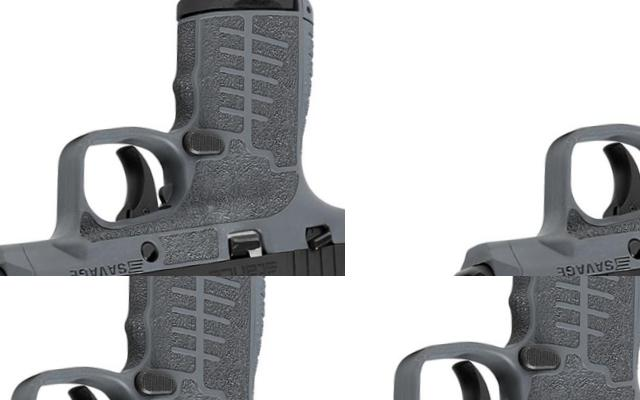handgun: (0, 0, 345, 276), (0, 276, 345, 395), (345, 276, 640, 400)
